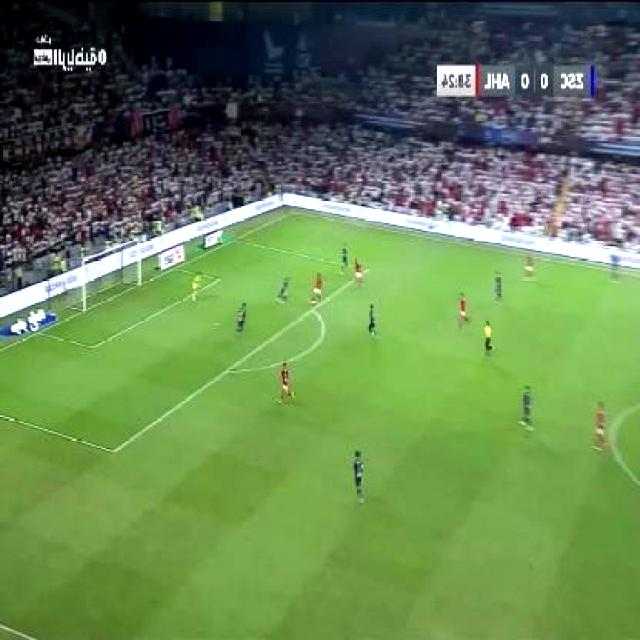bigarea_bottom_inner: (108, 442, 120, 460)
bigarea_top_inner: (360, 265, 371, 277)
bigarea_top_outter: (235, 237, 243, 245)
bottom_arc_area_intersection: (223, 363, 232, 377)
corner: (288, 209, 295, 214)
smallarea_bottom_inner: (90, 340, 98, 352)
smallarea_bottom_outter: (37, 328, 43, 335)
smallarea_top_inner: (217, 272, 225, 283)
smallarea_top_outter: (177, 263, 183, 271)
top_arc_area_intersection: (309, 301, 317, 314)
